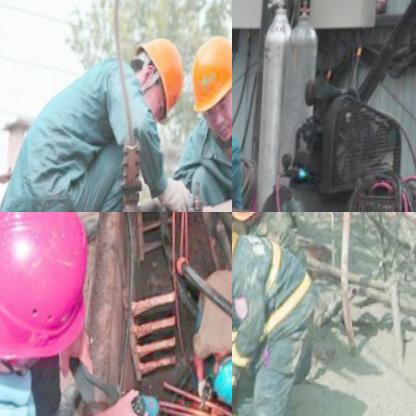helmet: (0, 212, 104, 398), (128, 28, 193, 123), (183, 28, 232, 145), (209, 356, 232, 408), (232, 212, 271, 232)
